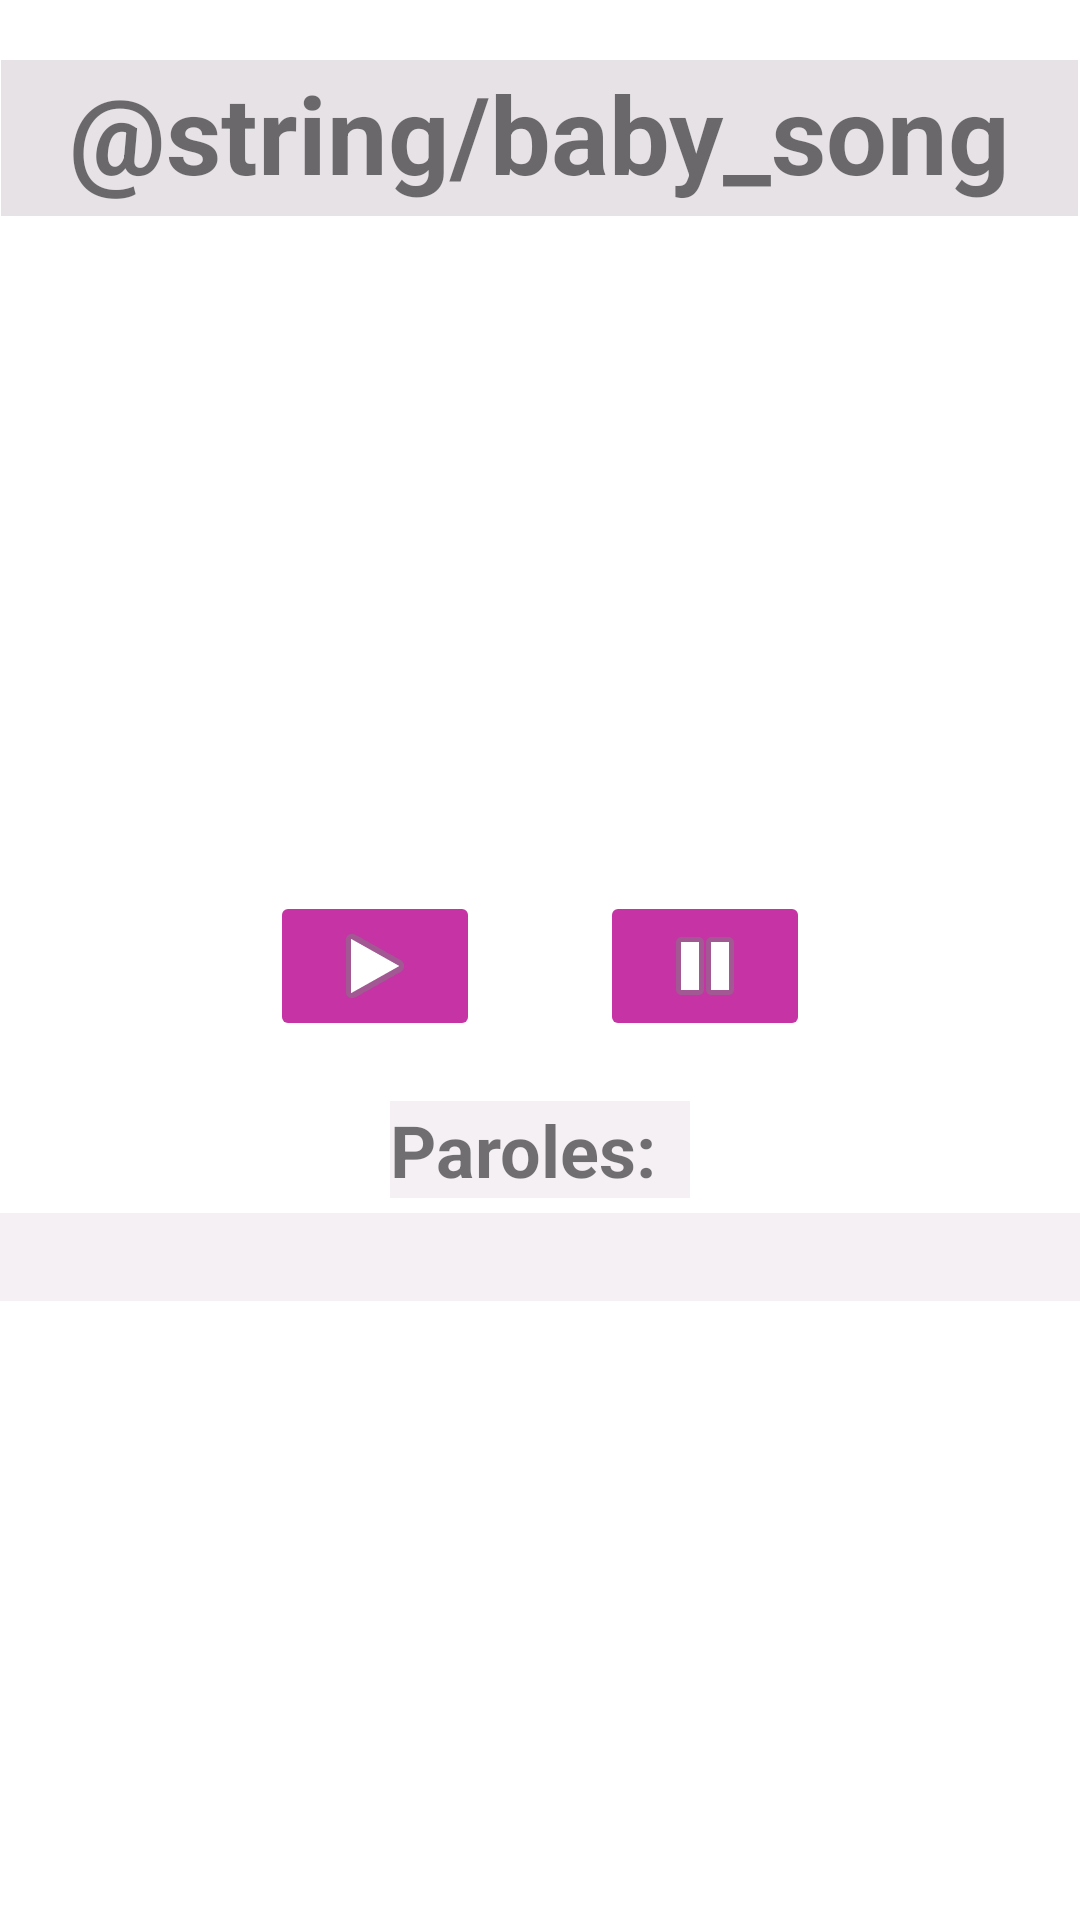

Icons on this 1080 × 1920 Android screen, each with the point to tap as (x,y):
pause: (705,966)
play: (375,966)
